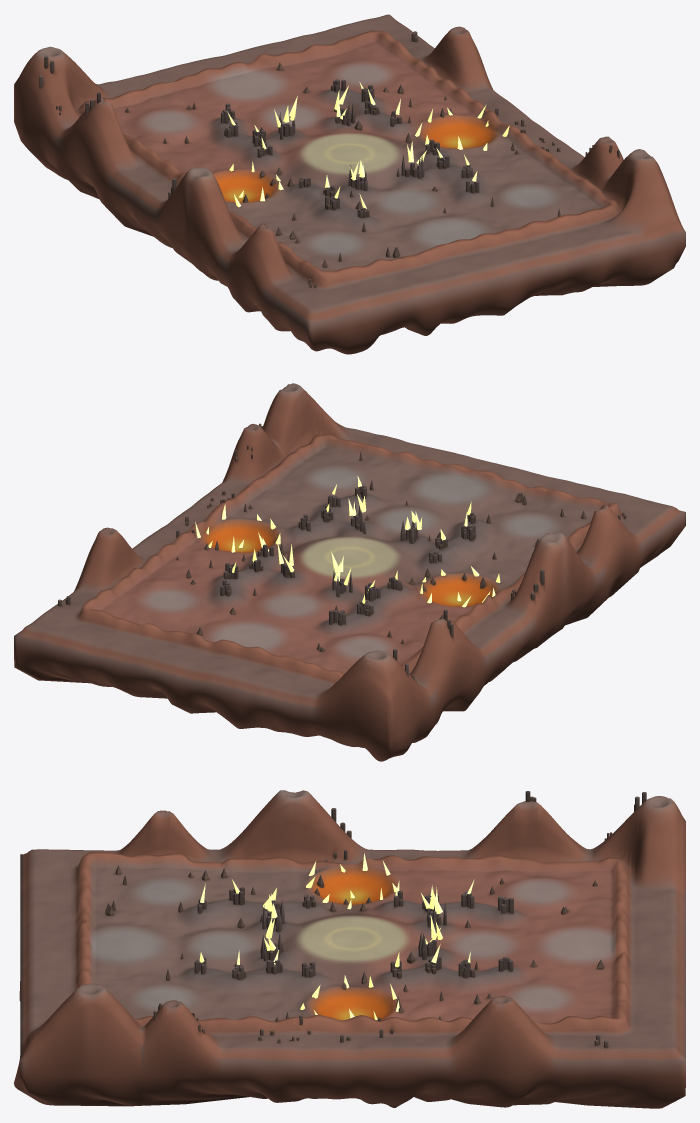
File: battlefield.glb
3 renders of one model, top to bottom at view 1: azimuth 30°, elevation 25°; view 2: azimuth 150°, elevation 25°; view 3: azimuth 270°, elevation 25°, orthographic. The views are drawn at different scales.
Visible parts, largest first — view 1: Island, Rocks, Crystals; view 2: Island, Rocks, Crystals; view 3: Island, Rocks, Crystals.
Part boxes in pixels (bbox=[...]): Island: bbox=[14, 14, 685, 354]; Rocks: bbox=[39, 31, 619, 288]; Crystals: bbox=[227, 82, 509, 208]; Island: bbox=[14, 383, 685, 761]; Rocks: bbox=[58, 423, 626, 681]; Crystals: bbox=[195, 476, 500, 607]; Island: bbox=[14, 790, 685, 1108]; Rocks: bbox=[105, 791, 646, 1048]; Crystals: bbox=[199, 853, 474, 1020].
Bounding box in the file's own units: 12.85 × 5.86 × 17.54.
